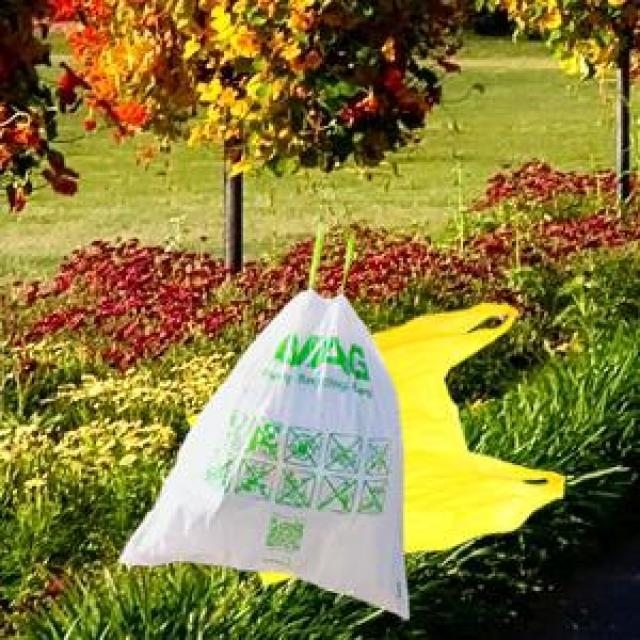plastic: (120, 181, 558, 616)
